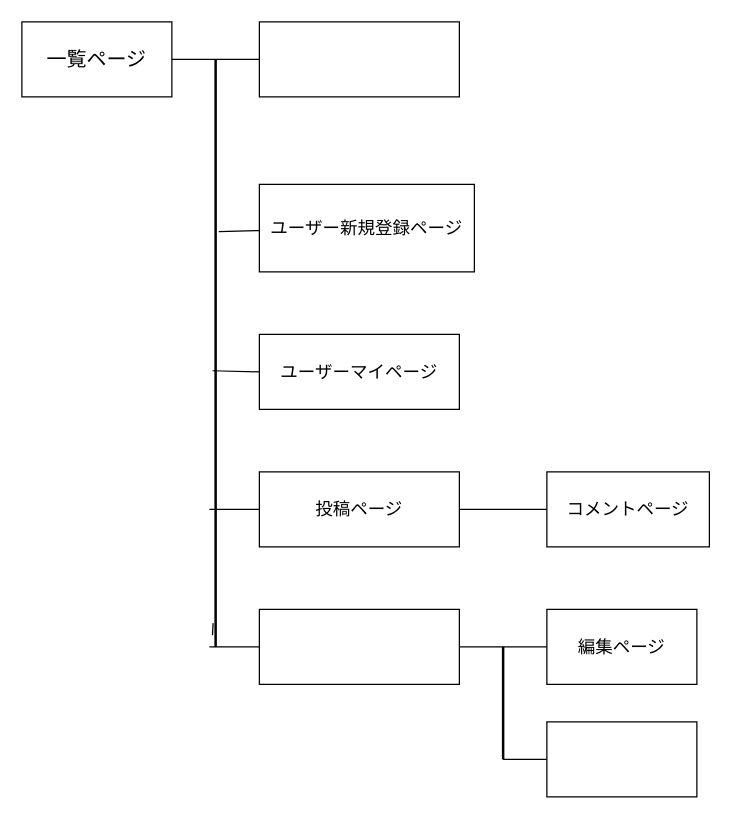
Image size: 731x819. Some labels were removed from this diagram. The centre of each missing label's shape, as x and y in pixels:
"ユーザログインページ" goes at point (358, 59).
"削除完了ページ" goes at point (621, 759).
"詳細ページ" goes at point (358, 646).
